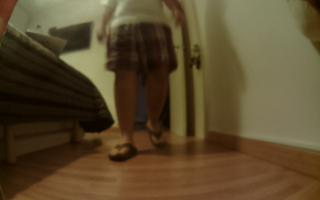person: (91, 1, 190, 161)
